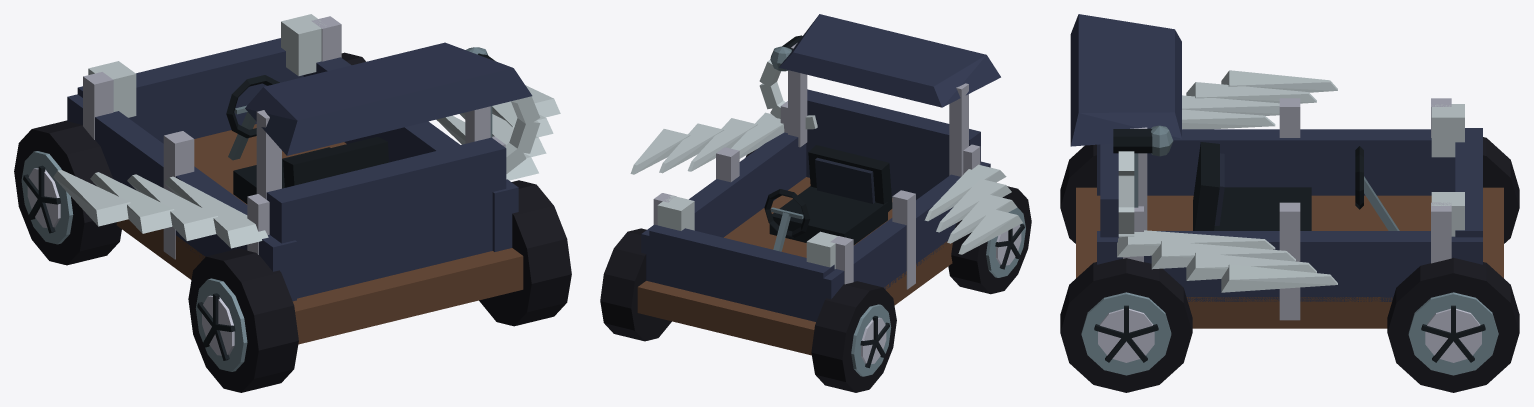
Rendered from kart.glb.
3 views of the same model, side by side, from view 1: azimuth 30°, elevation 25°; view 2: azimuth 150°, elevation 25°; view 3: azimuth 270°, elevation 25° (orthographic). The views are drawn at different scales.
Parts seen in each view (by area): view 1: identity-carriage-carriage-timber-coach, wheel-rear-left, identity-carriage-motif-wings-feather, wheel-front-left, wheel-rear-right, identity-carriage-driver-cockpit, identity-carriage-motif-moon; view 2: identity-carriage-carriage-timber-coach, identity-carriage-motif-wings-feather, identity-carriage-driver-cockpit, wheel-front-left, wheel-rear-left, wheel-front-right, identity-carriage-motif-moon, identity-carriage-motif-microphone; view 3: identity-carriage-carriage-timber-coach, wheel-front-right, wheel-rear-right, identity-carriage-motif-wings-feather, identity-carriage-driver-cockpit, wheel-front-left, wheel-rear-left, identity-carriage-motif-microphone, identity-carriage-motif-moon.
Boxes of the visible parts, x1,y1,x2,y2 form: identity-carriage-carriage-timber-coach: [67, 14, 532, 344]; wheel-rear-left: [188, 248, 298, 392]; identity-carriage-motif-wings-feather: [53, 85, 560, 248]; wheel-front-left: [14, 120, 121, 265]; wheel-rear-right: [479, 180, 571, 326]; identity-carriage-driver-cockpit: [226, 75, 388, 203]; identity-carriage-motif-moon: [505, 96, 540, 173]; identity-carriage-carriage-timber-coach: [637, 14, 1000, 355]; identity-carriage-motif-wings-feather: [630, 112, 1022, 254]; identity-carriage-driver-cockpit: [764, 145, 892, 251]; wheel-front-left: [811, 281, 896, 392]; wheel-rear-left: [948, 186, 1031, 294]; wheel-front-right: [600, 228, 671, 341]; identity-carriage-motif-moon: [759, 59, 817, 129]; identity-carriage-motif-microphone: [770, 35, 802, 71]; identity-carriage-carriage-timber-coach: [1070, 14, 1503, 328]; wheel-front-right: [1387, 257, 1519, 392]; wheel-rear-right: [1060, 258, 1192, 392]; identity-carriage-motif-wings-feather: [1117, 70, 1337, 292]; identity-carriage-driver-cockpit: [1193, 142, 1399, 230]; wheel-front-left: [1483, 137, 1519, 243]; wheel-rear-left: [1060, 144, 1096, 243]; identity-carriage-motif-microphone: [1113, 125, 1173, 207]; identity-carriage-motif-moon: [1118, 151, 1134, 237].
Size of the model in its own units: 2.88 by 1.63 by 2.64.
